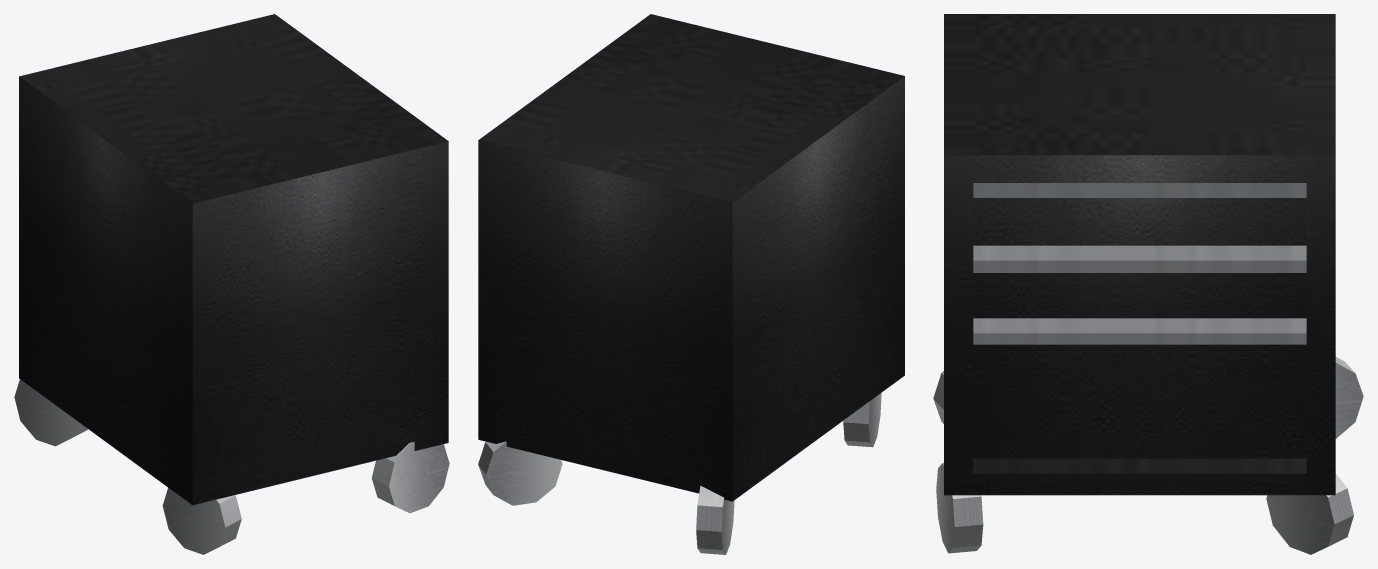
Rendered from toolbox_model.fbx.
The picture shows the model from 3 angles, left to right: view 1: azimuth 30°, elevation 25°; view 2: azimuth 150°, elevation 25°; view 3: azimuth 270°, elevation 25°; orthographic projection. The views are drawn at different scales.
Parts seen in each view (by area): view 1: polySurface12; view 2: polySurface12; view 3: polySurface12.
Part boxes in pixels (left/top/right/bottom): polySurface12: left=14, top=14, right=449, bottom=554; polySurface12: left=478, top=14, right=904, bottom=554; polySurface12: left=933, top=14, right=1363, bottom=554.
Bounding box in the file's own units: 0.0864 × 0.1142 × 0.1091.
